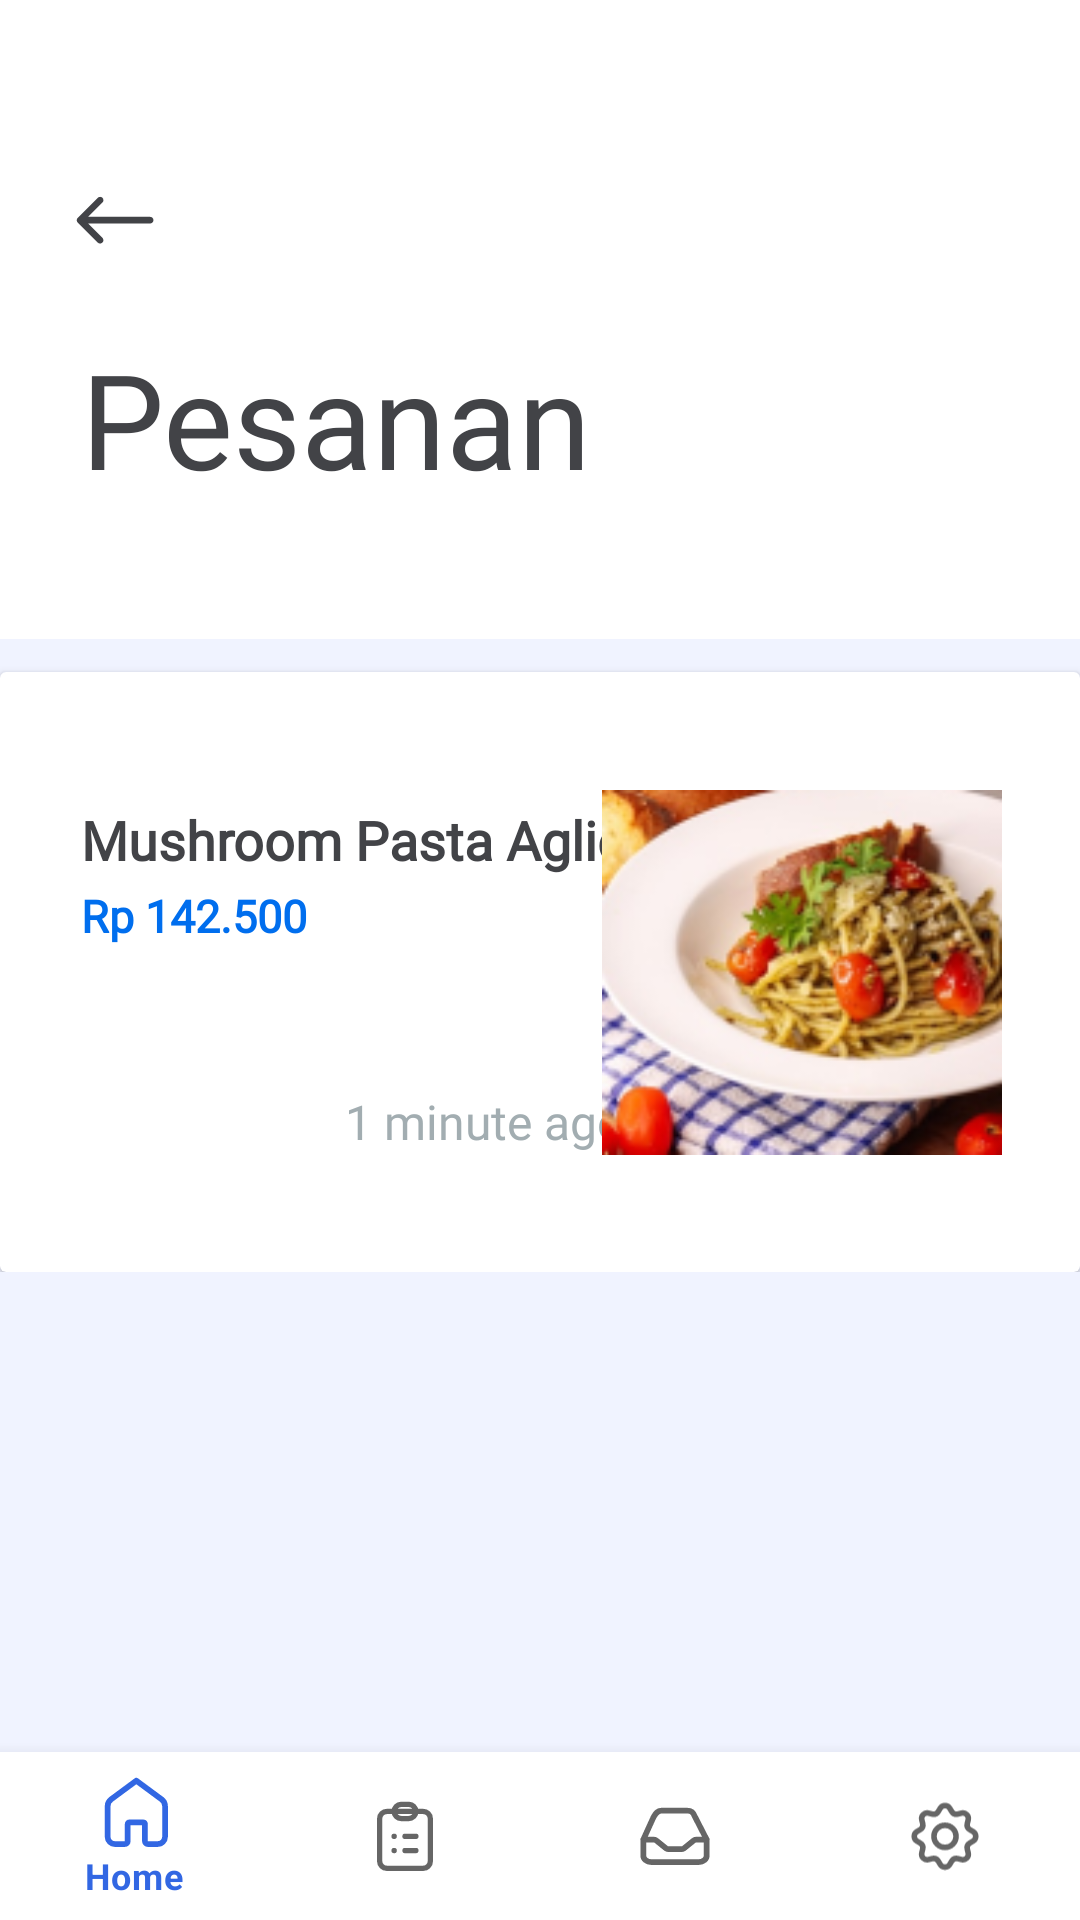

Screen size 1080x1920. Icon name, then its box in pixels as {"x1": x1, "y1": y1, "x2": x2, "y2": y2}:
back: {"x1": 76, "y1": 197, "x2": 154, "y2": 244}
